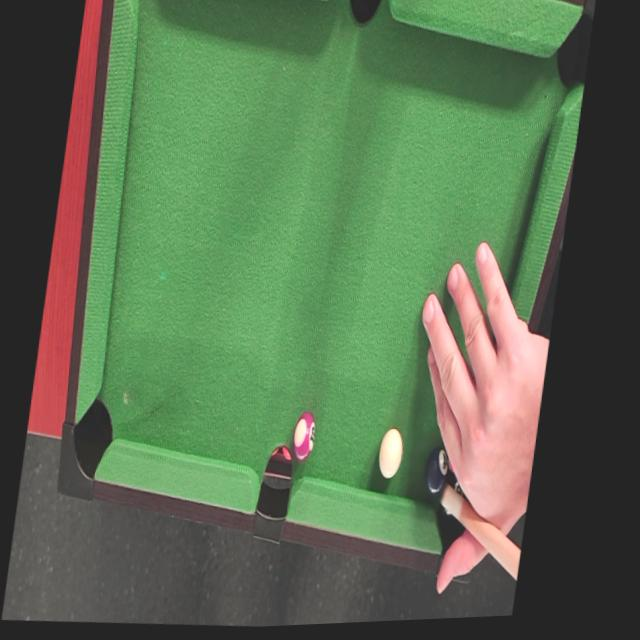cue ball: (374, 419, 408, 482)
other: (288, 399, 322, 462), (422, 435, 451, 497)
